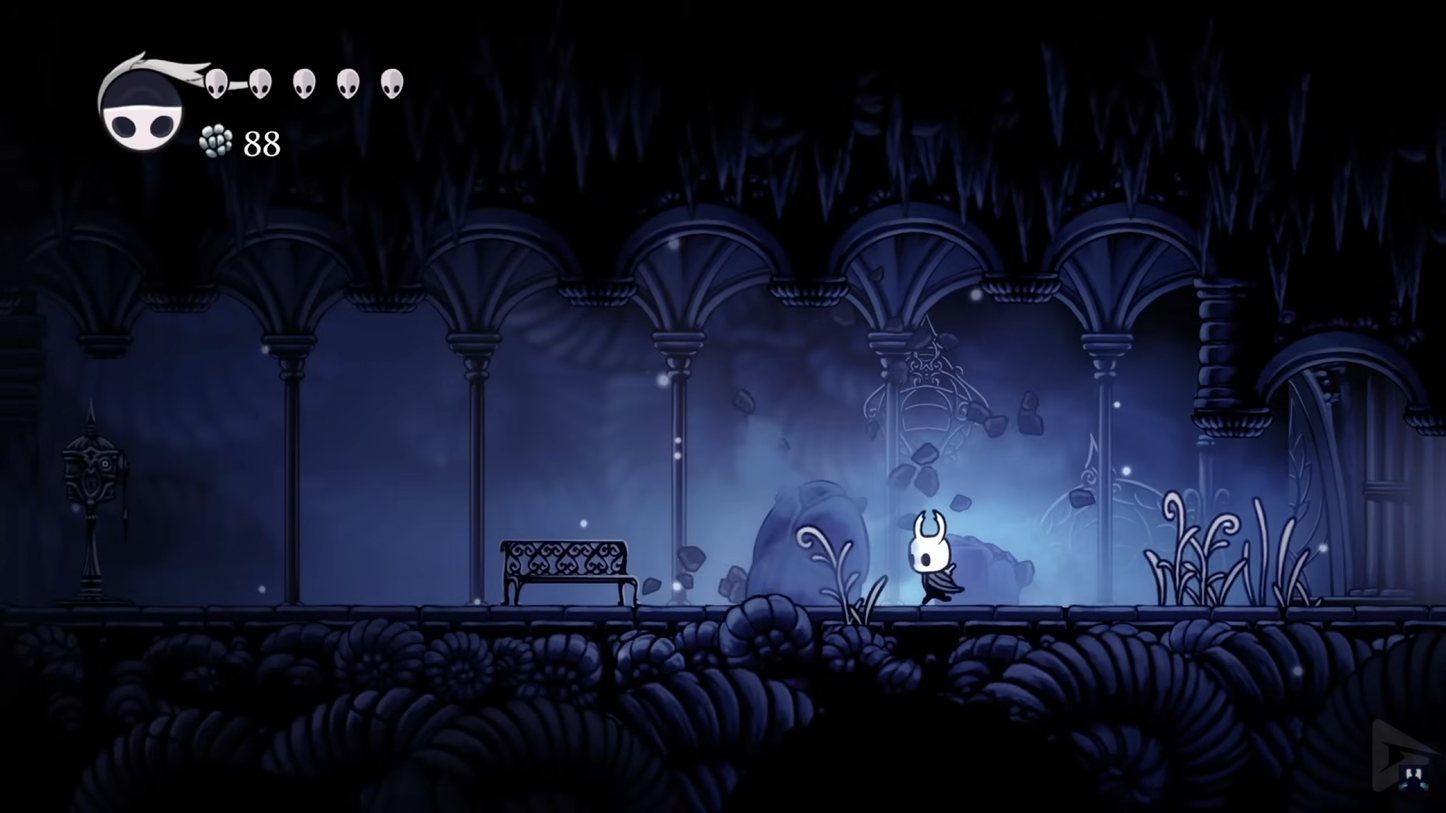HK: (905, 507, 962, 608)
